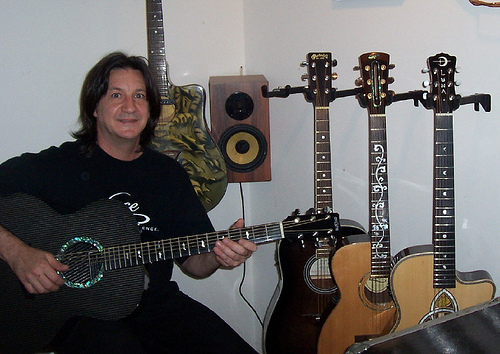guitar: (1, 196, 342, 329), (264, 53, 367, 354), (390, 53, 495, 331), (328, 50, 396, 354), (136, 1, 229, 214)
